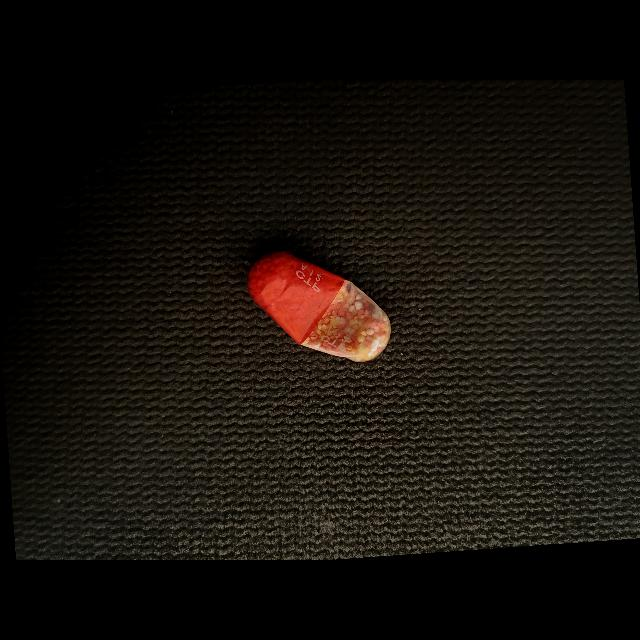Defective Capsule: (248, 251, 391, 362)
